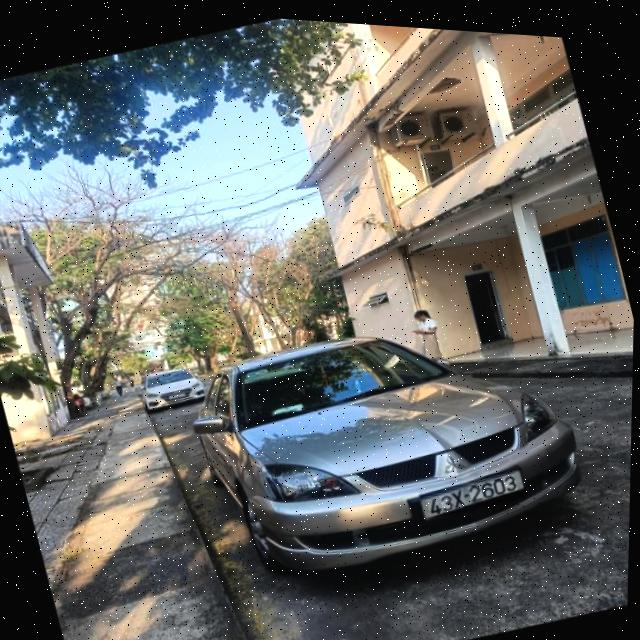car: (172, 272, 605, 625), (129, 352, 212, 423)
plate: (412, 454, 535, 531)
